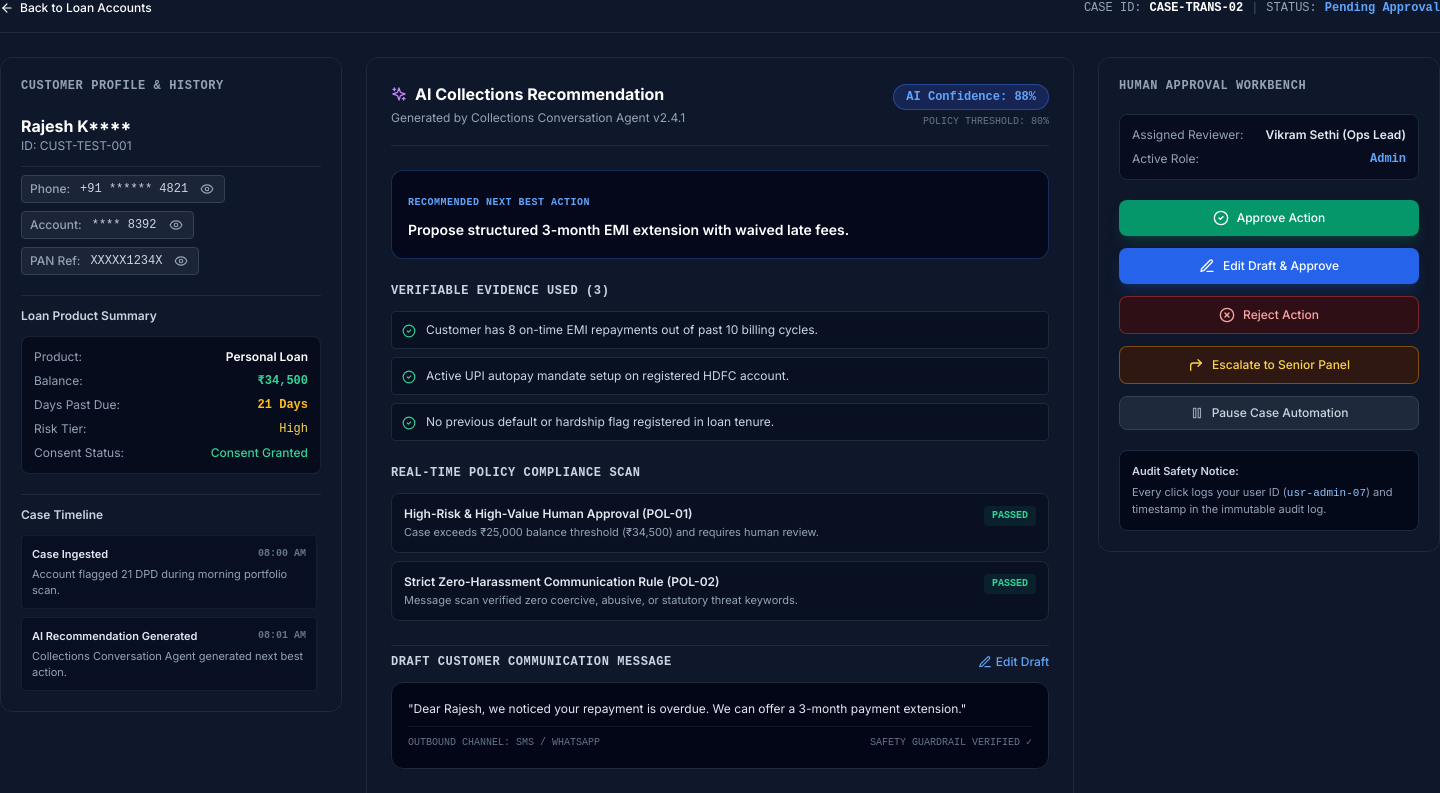
7. Case Workbench Status Transitions & Human Approvals › allows inline editing of the customer draft message and transitions to "Approved"
Click Edit Draft & Approve
Click the button "Edit Draft & Approve" at (1269, 266), box [1119, 248, 1419, 284]
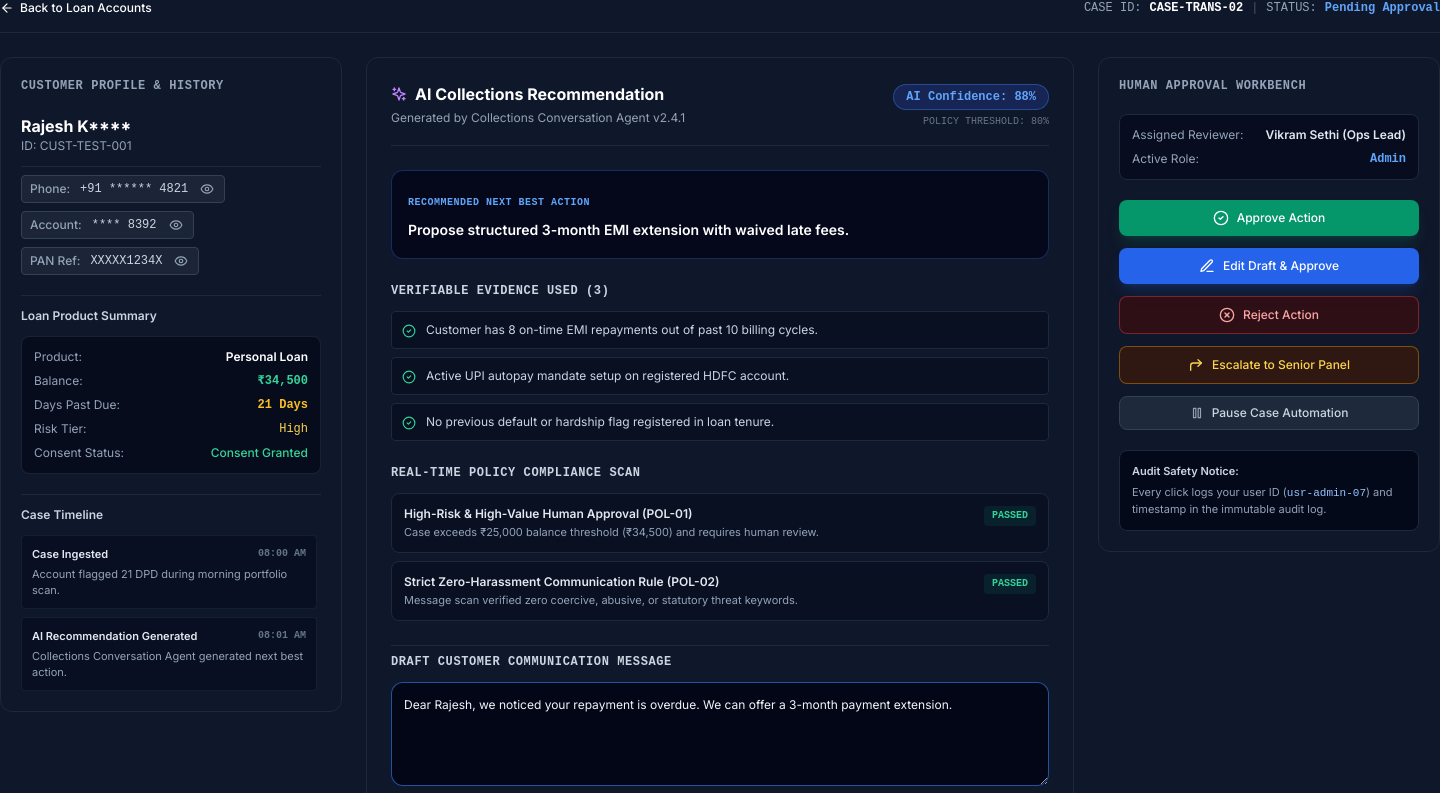
Edit textarea
Replace the text in the text box with "Customized payment extension message for customer." at (720, 734), box [391, 682, 1049, 786]
(page scrolled)
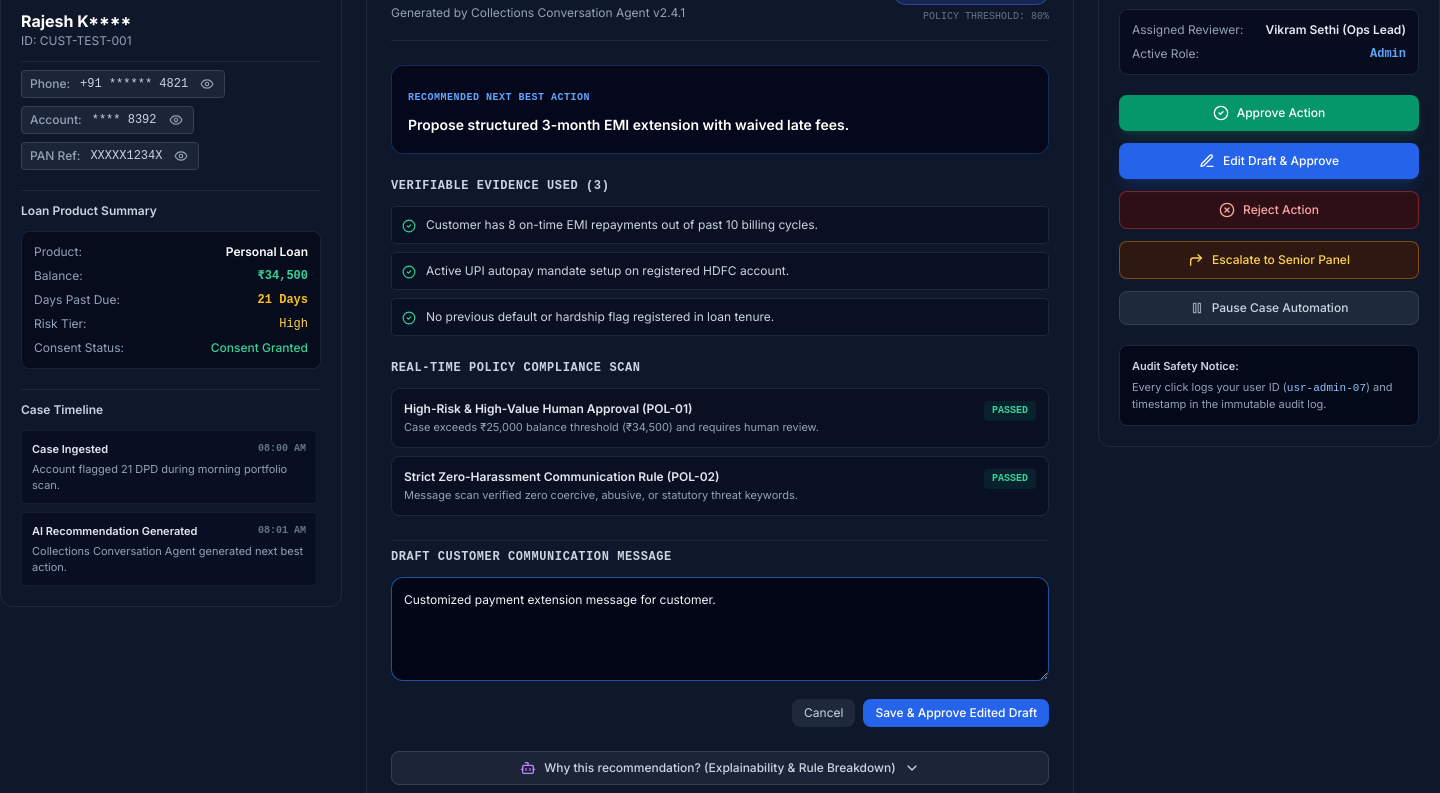
Save & approve
Click the button "Save & Approve Edited Draft" at (956, 713), box [863, 699, 1049, 727]
(page scrolled)
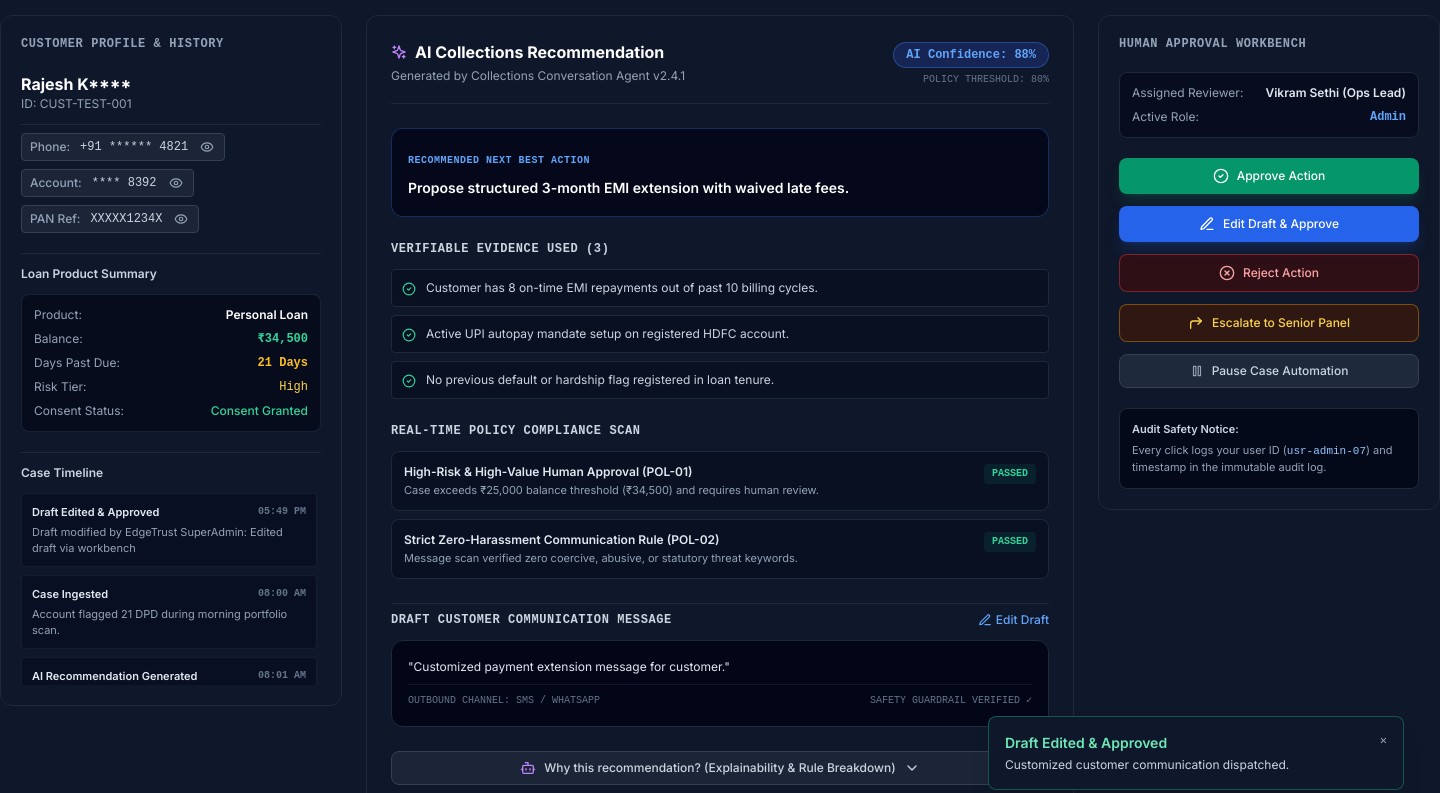
Expected: the text "\"Customized payment extension message for customer.\"" is shown, [408, 659, 730, 674]
